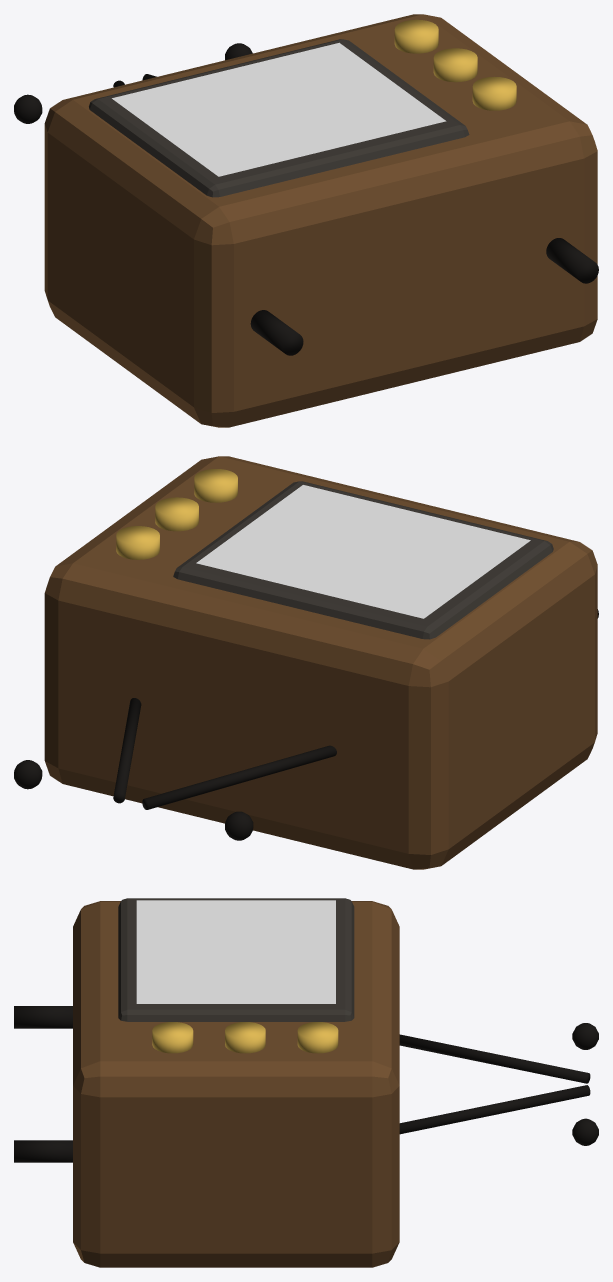
The picture shows the model from 3 angles, top to bottom: view 1: azimuth 30°, elevation 25°; view 2: azimuth 150°, elevation 25°; view 3: azimuth 270°, elevation 25°; orthographic projection. The views are drawn at different scales.
Parts seen in each view (by area): view 1: Cube, screen, Cube.001, Cylinder.001, Cylinder.005, Cylinder, Cylinder.002, Cylinder.006, Sphere; view 2: Cube, screen, Cube.001, Cylinder.003, Cylinder.001, Cylinder, Cylinder.002, Cylinder.004, Sphere, Sphere.001; view 3: Cube, screen, Cube.001, Cylinder.003, Cylinder.004, Cylinder.005, Cylinder.006, Cylinder, Cylinder.002, Cylinder.001, Sphere, Sphere.001.
Part boxes in pixels (x1,y1,x2,y2): Cube: (44, 14, 597, 427); screen: (112, 42, 446, 176); Cube.001: (89, 39, 469, 197); Cylinder.001: (433, 48, 477, 82); Cylinder.005: (250, 310, 303, 355); Cylinder: (394, 19, 438, 53); Cylinder.002: (472, 76, 516, 110); Cylinder.006: (546, 238, 598, 283); Sphere: (14, 94, 42, 123); Cube: (44, 456, 597, 869); screen: (196, 485, 530, 618); Cube.001: (173, 481, 553, 639); Cylinder.003: (142, 745, 336, 809); Cylinder.001: (155, 497, 198, 531); Cylinder: (116, 526, 159, 559); Cylinder.002: (194, 469, 237, 502); Cylinder.004: (113, 698, 141, 803); Sphere: (225, 811, 253, 840); Sphere.001: (14, 760, 42, 789); Cube: (73, 901, 399, 1267); screen: (136, 900, 335, 1003); Cube.001: (118, 898, 354, 1021); Cylinder.003: (399, 1034, 590, 1083); Cylinder.004: (399, 1085, 590, 1134); Cylinder.005: (14, 1006, 72, 1028); Cylinder.006: (14, 1140, 72, 1162); Cylinder: (297, 1022, 338, 1053); Cylinder.002: (152, 1022, 193, 1053); Cylinder.001: (225, 1022, 265, 1053); Sphere: (572, 1023, 598, 1049); Sphere.001: (572, 1118, 598, 1145).
Bounding box in the file's own units: 0.95 × 0.535 × 1.29.
